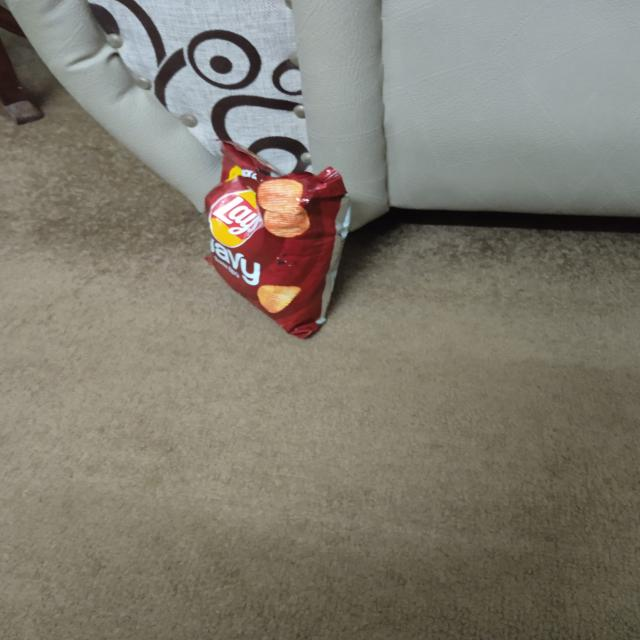Plastic: (193, 135, 359, 348)
